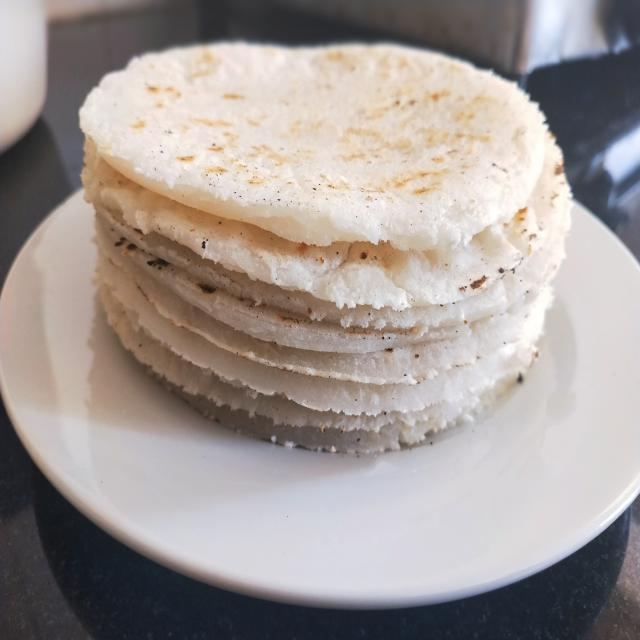DOSA: (83, 32, 576, 431), (75, 40, 572, 356), (78, 38, 571, 302), (83, 42, 543, 228), (106, 242, 562, 411)
